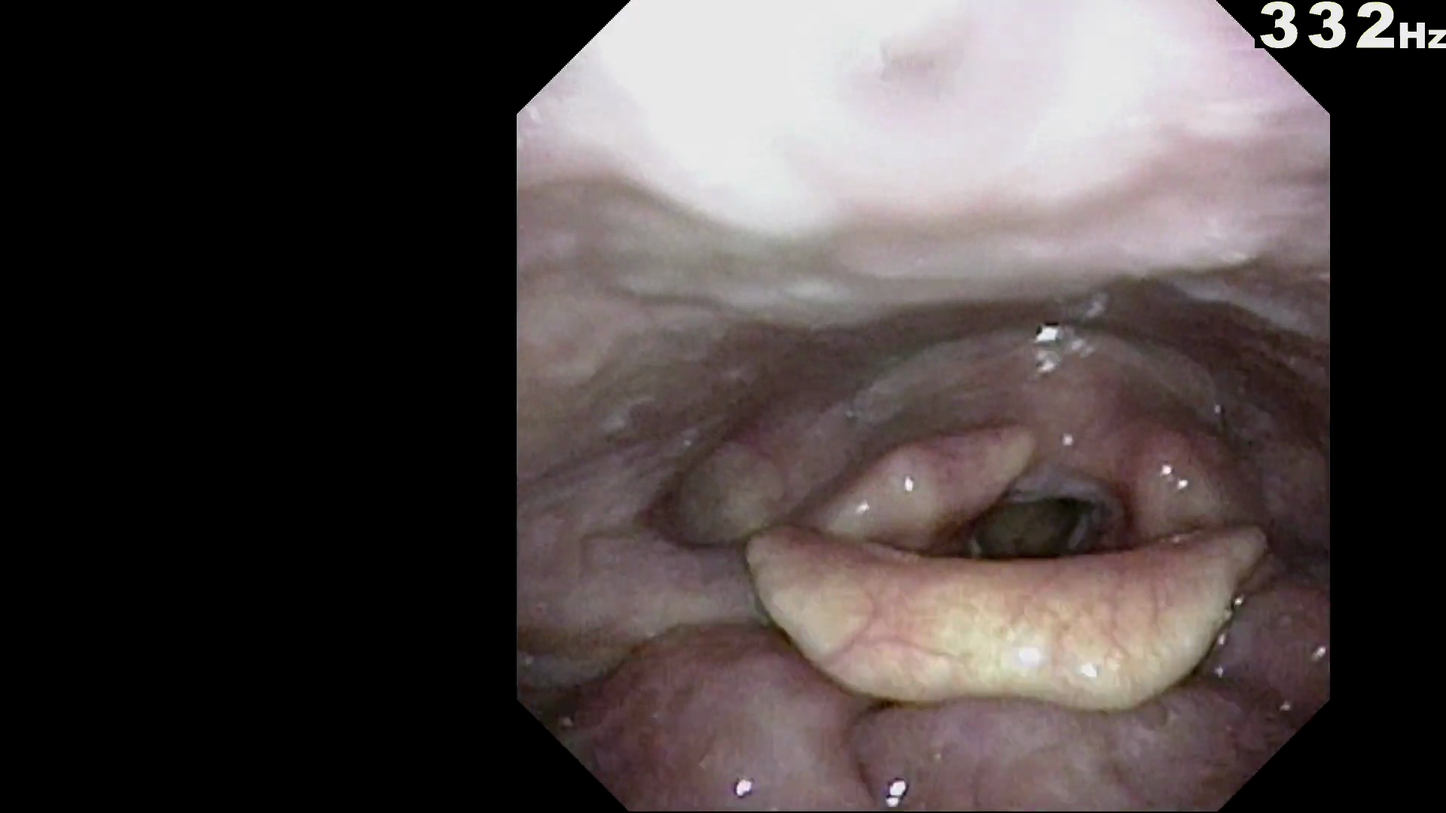epiglottis: (695, 555, 1237, 694)
trachea: (952, 491, 1106, 592)
